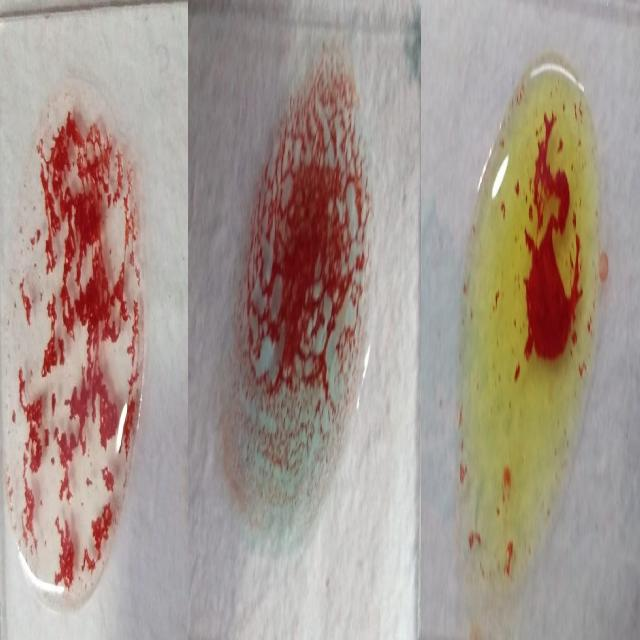A: (225, 42, 369, 561)
B: (457, 61, 602, 594)
D: (11, 88, 144, 596)
